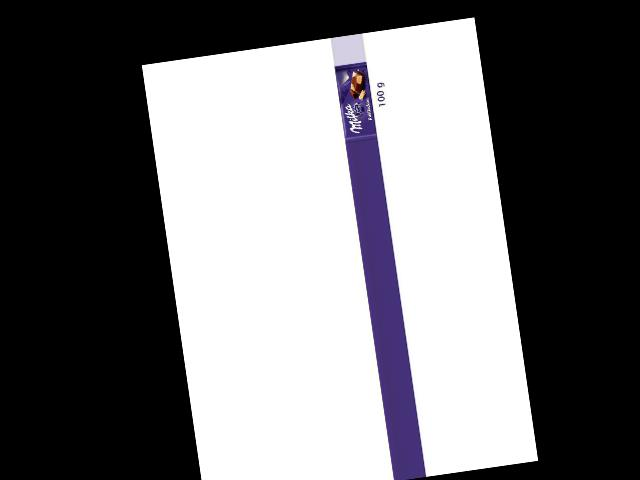chocolate: (333, 60, 382, 142)
